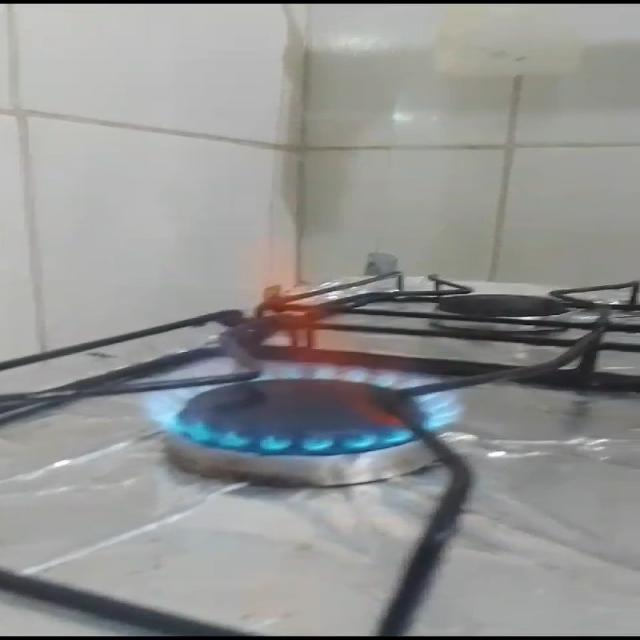fogo-ypXI: (140, 236, 471, 466)
